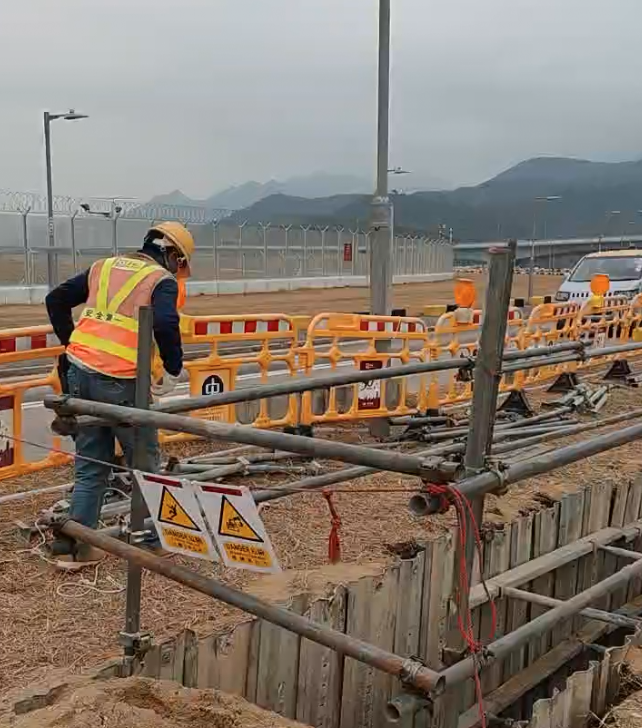Hard Hat: (141, 216, 196, 271)
Person: (54, 221, 195, 549)
Vest: (66, 235, 164, 379)
